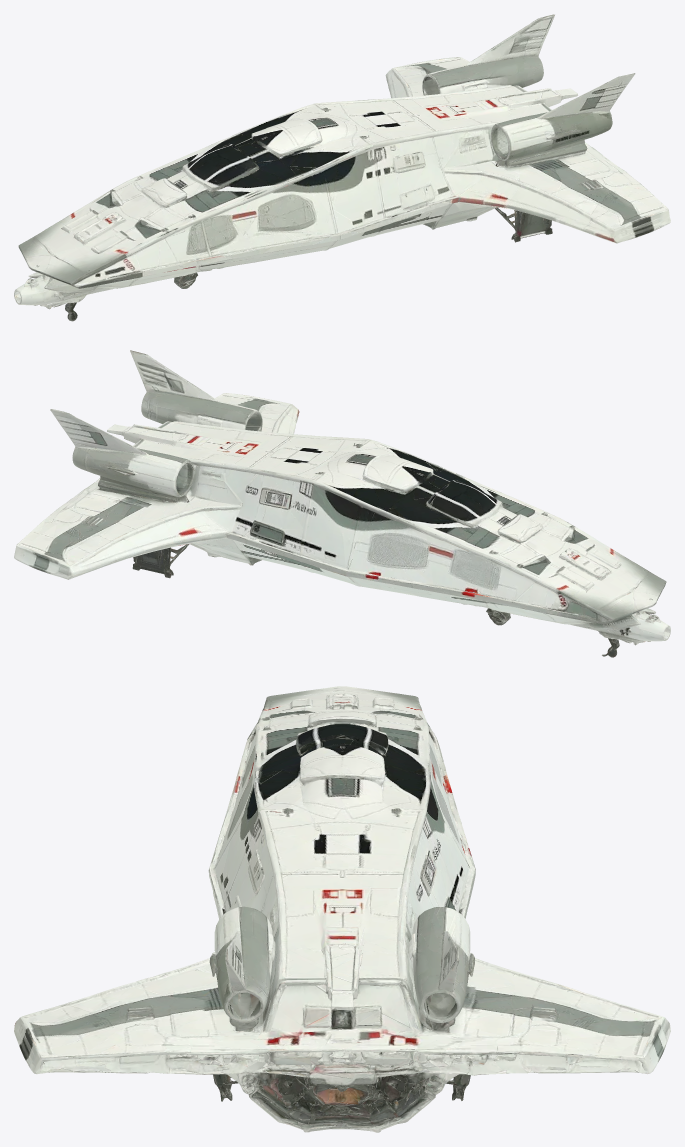
The model's file is ship.glb.
3 views of the same model, one above another, from view 1: azimuth 30°, elevation 25°; view 2: azimuth 150°, elevation 25°; view 3: azimuth 270°, elevation 25° (orthographic). The views are drawn at different scales.
Size of the model in its own units: 1.9 by 0.4727 by 1.29.
Materials: 1 (1 with a texture image).
